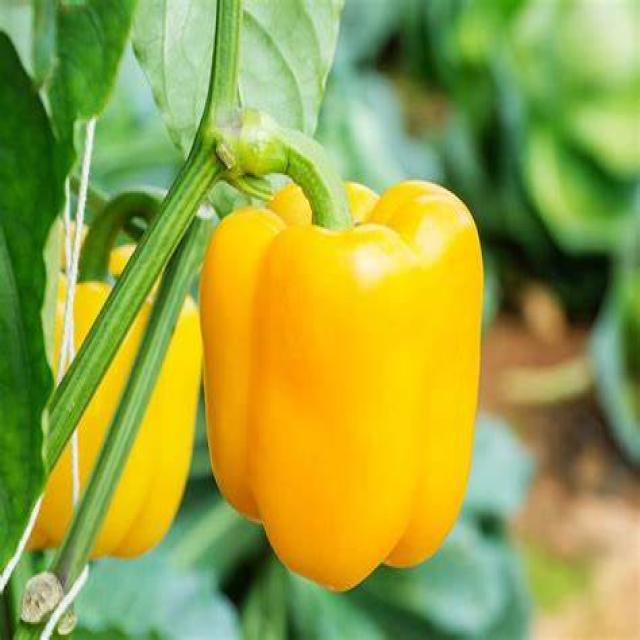Capsicum: (202, 140, 484, 590), (13, 233, 203, 557)
